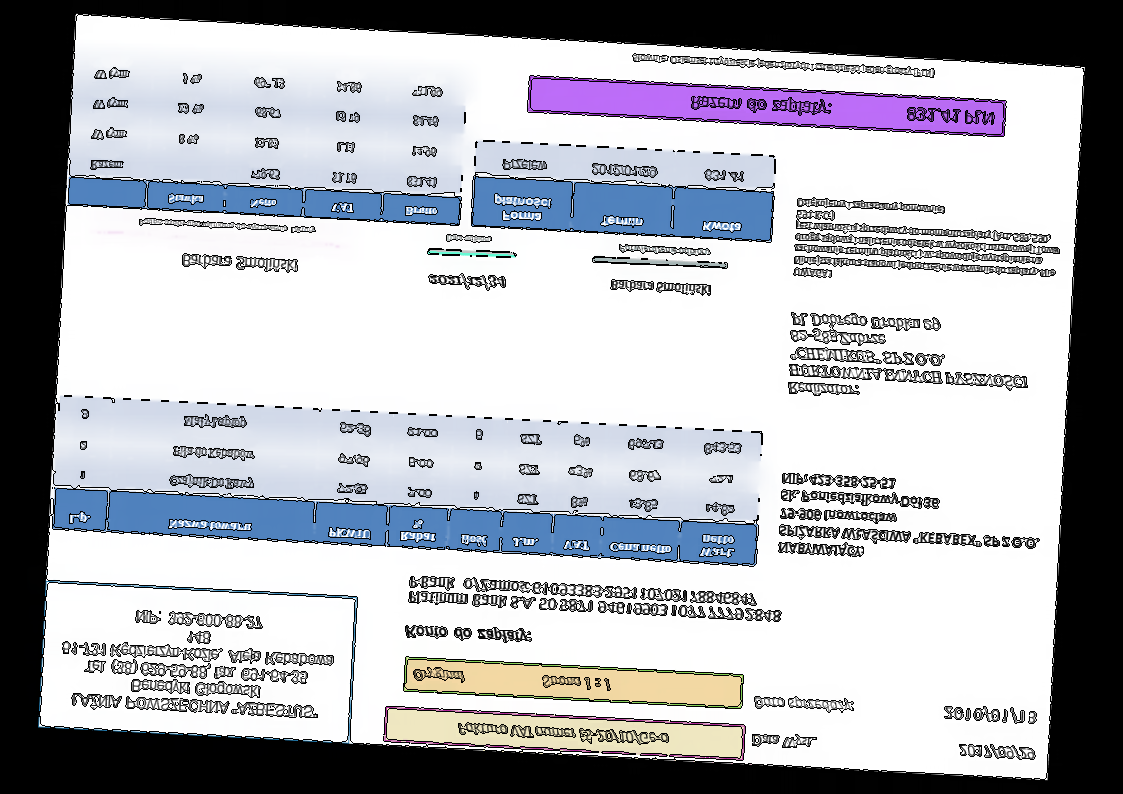Table: (51, 394, 764, 567), (66, 54, 469, 227), (470, 138, 777, 244)
TextBox: (56, 603, 338, 725), (792, 195, 1064, 292), (776, 470, 1044, 568), (785, 310, 1034, 410), (406, 573, 785, 626), (688, 91, 997, 129), (629, 49, 938, 81), (410, 664, 614, 694), (455, 720, 671, 748), (136, 215, 318, 237), (402, 620, 535, 648), (180, 252, 300, 276), (751, 693, 856, 716), (942, 702, 1037, 726), (608, 278, 713, 298), (427, 268, 508, 293), (956, 741, 1036, 763), (616, 242, 710, 259), (749, 730, 818, 752), (445, 233, 493, 246)
